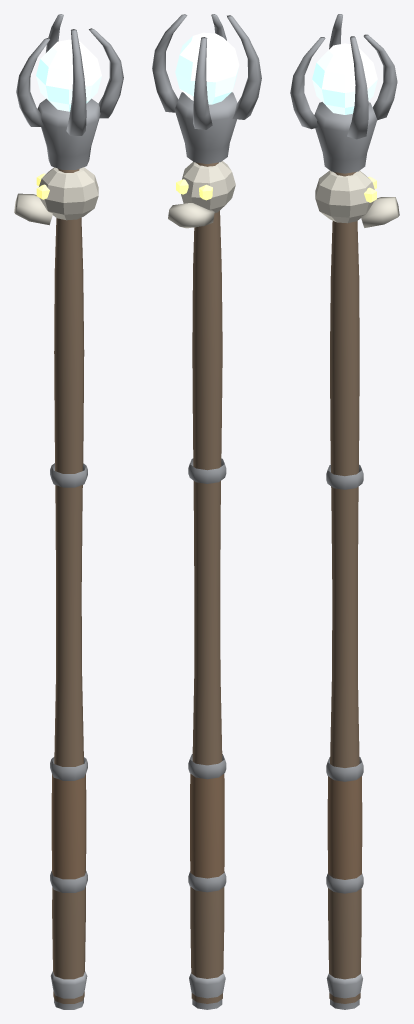
File: wpn_soul_staff.glb
3 views of the same model, side by side, from view 1: azimuth 90°, elevation 25°; view 2: azimuth 150°, elevation 25°; view 3: azimuth 270°, elevation 25° (orthographic).
Parts seen in each view (by area): view 1: wpn_soul_staff; view 2: wpn_soul_staff; view 3: wpn_soul_staff.
Boxes of the visible parts, x1,y1,x2,y2 form: wpn_soul_staff: (14,14,123,1009); wpn_soul_staff: (152,14,261,1009); wpn_soul_staff: (290,14,399,1009).
Bounding box in the file's own units: 0.1567 × 1.58 × 0.1596.
